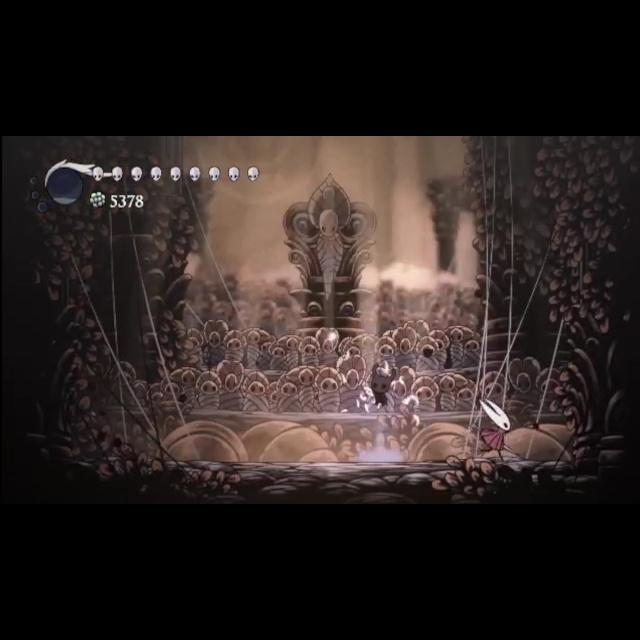Enemy: (462, 393, 524, 463)
Player: (364, 361, 402, 411)
